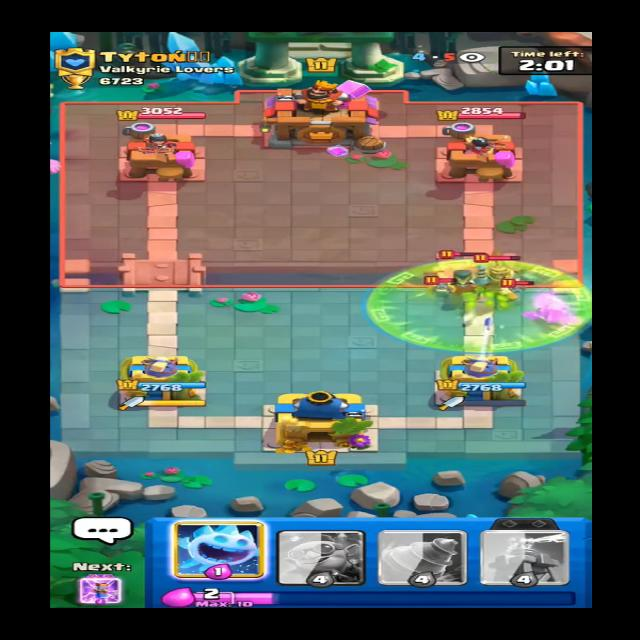bats: (497, 277, 530, 297), (424, 279, 458, 298)
night-witch: (437, 254, 477, 297)
prince: (475, 253, 521, 302)
